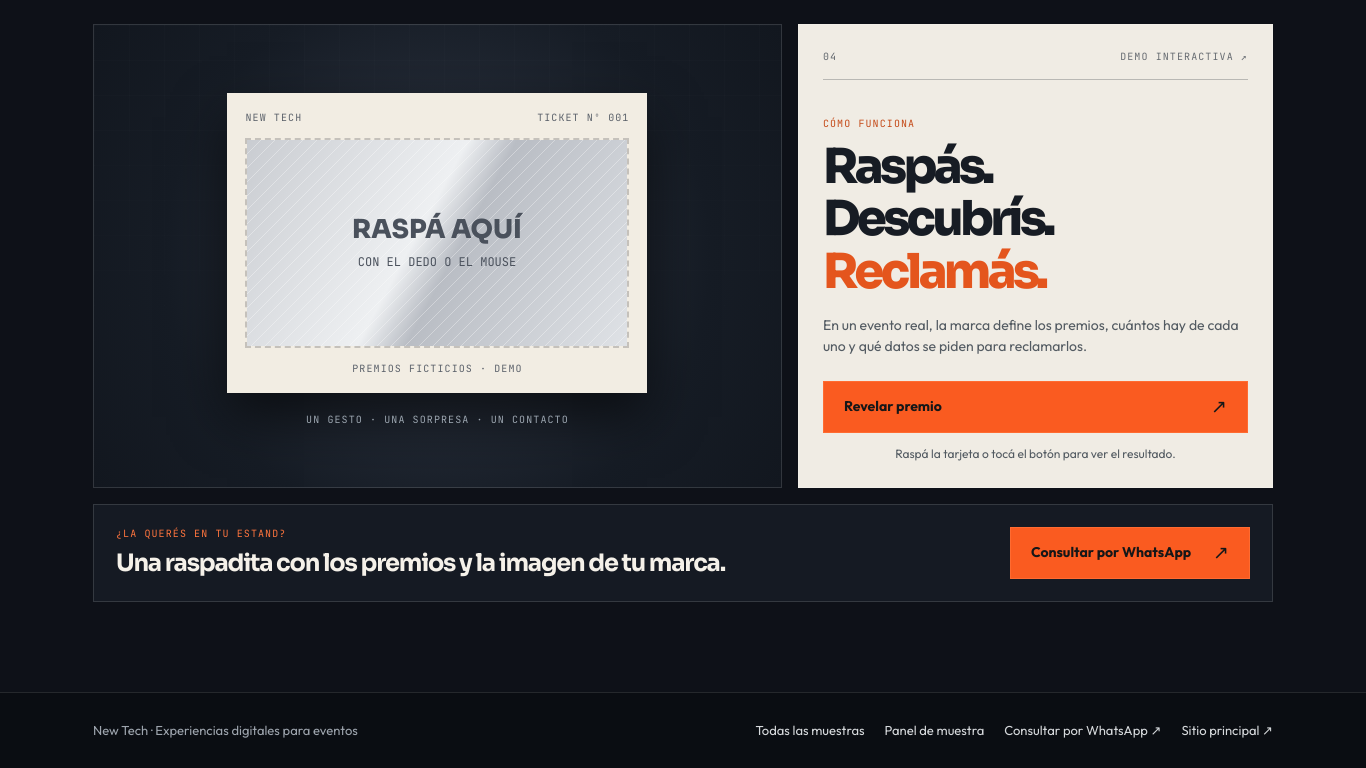
Test: demo de experiencias › revela la raspadita y pide datos para reclamar el premio
The width and height of the screenshot is (1366, 768).
(page scrolled)
Click the button "Revelar premio ↗". click: click(893, 406)
box: [823,381,1248,433]
Wait 1000 ms
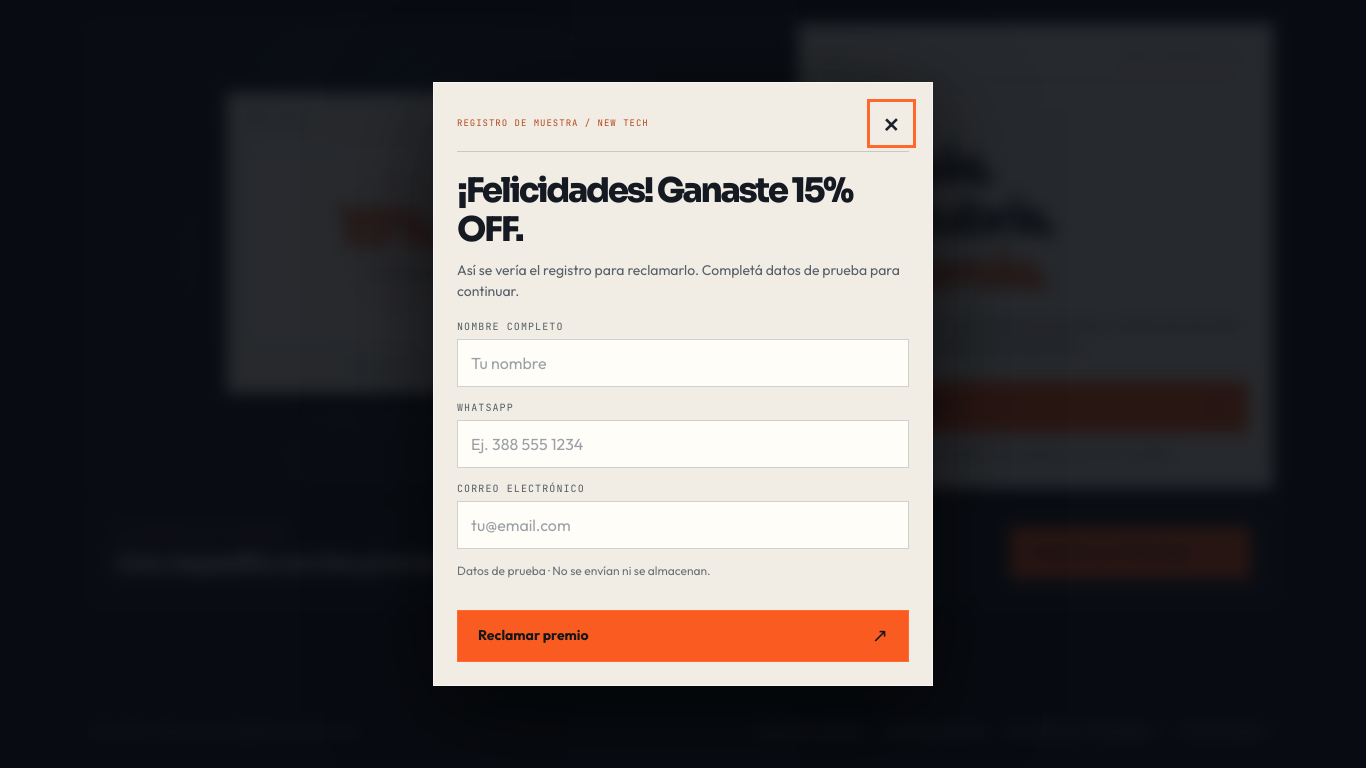
Expected: the dialog "Ganaste 15% OFF" is shown, [433,82,933,686]
Expected: the button "Reclamar premio ↗" is shown, [457,610,909,662]
